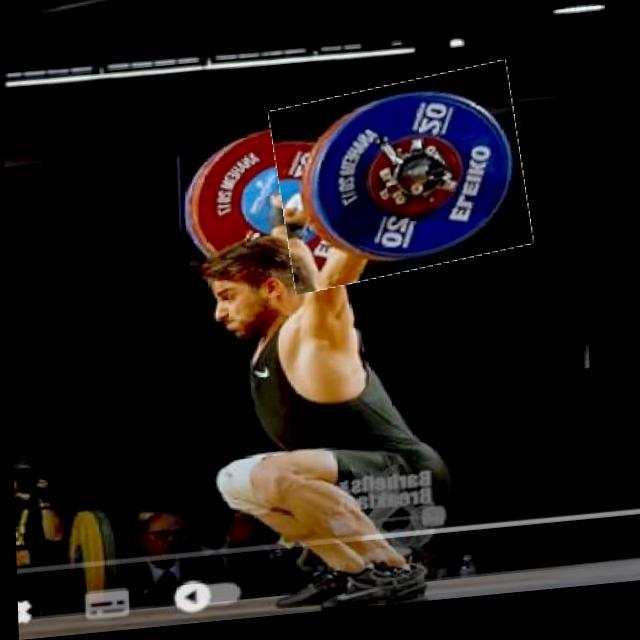barbell: (273, 77, 528, 296)
